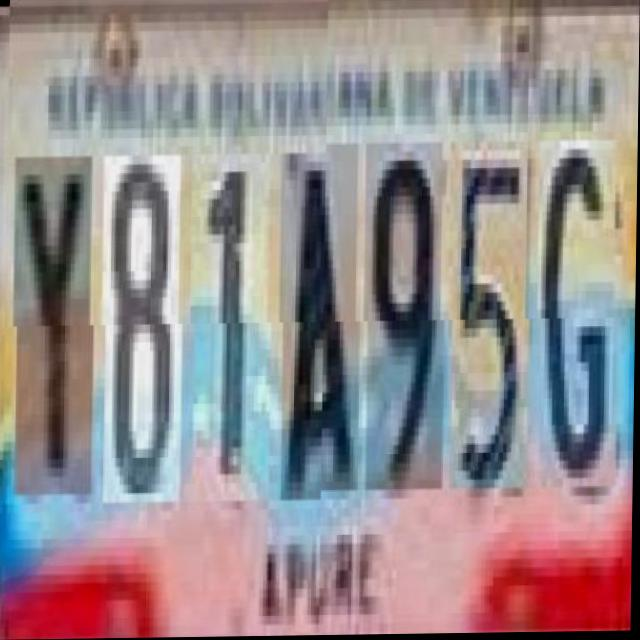1: (193, 146, 274, 493)
5: (452, 143, 533, 490)
8: (106, 147, 185, 494)
9: (367, 144, 448, 491)
a: (282, 145, 363, 492)
g: (540, 142, 621, 489)
y: (16, 148, 97, 487)
